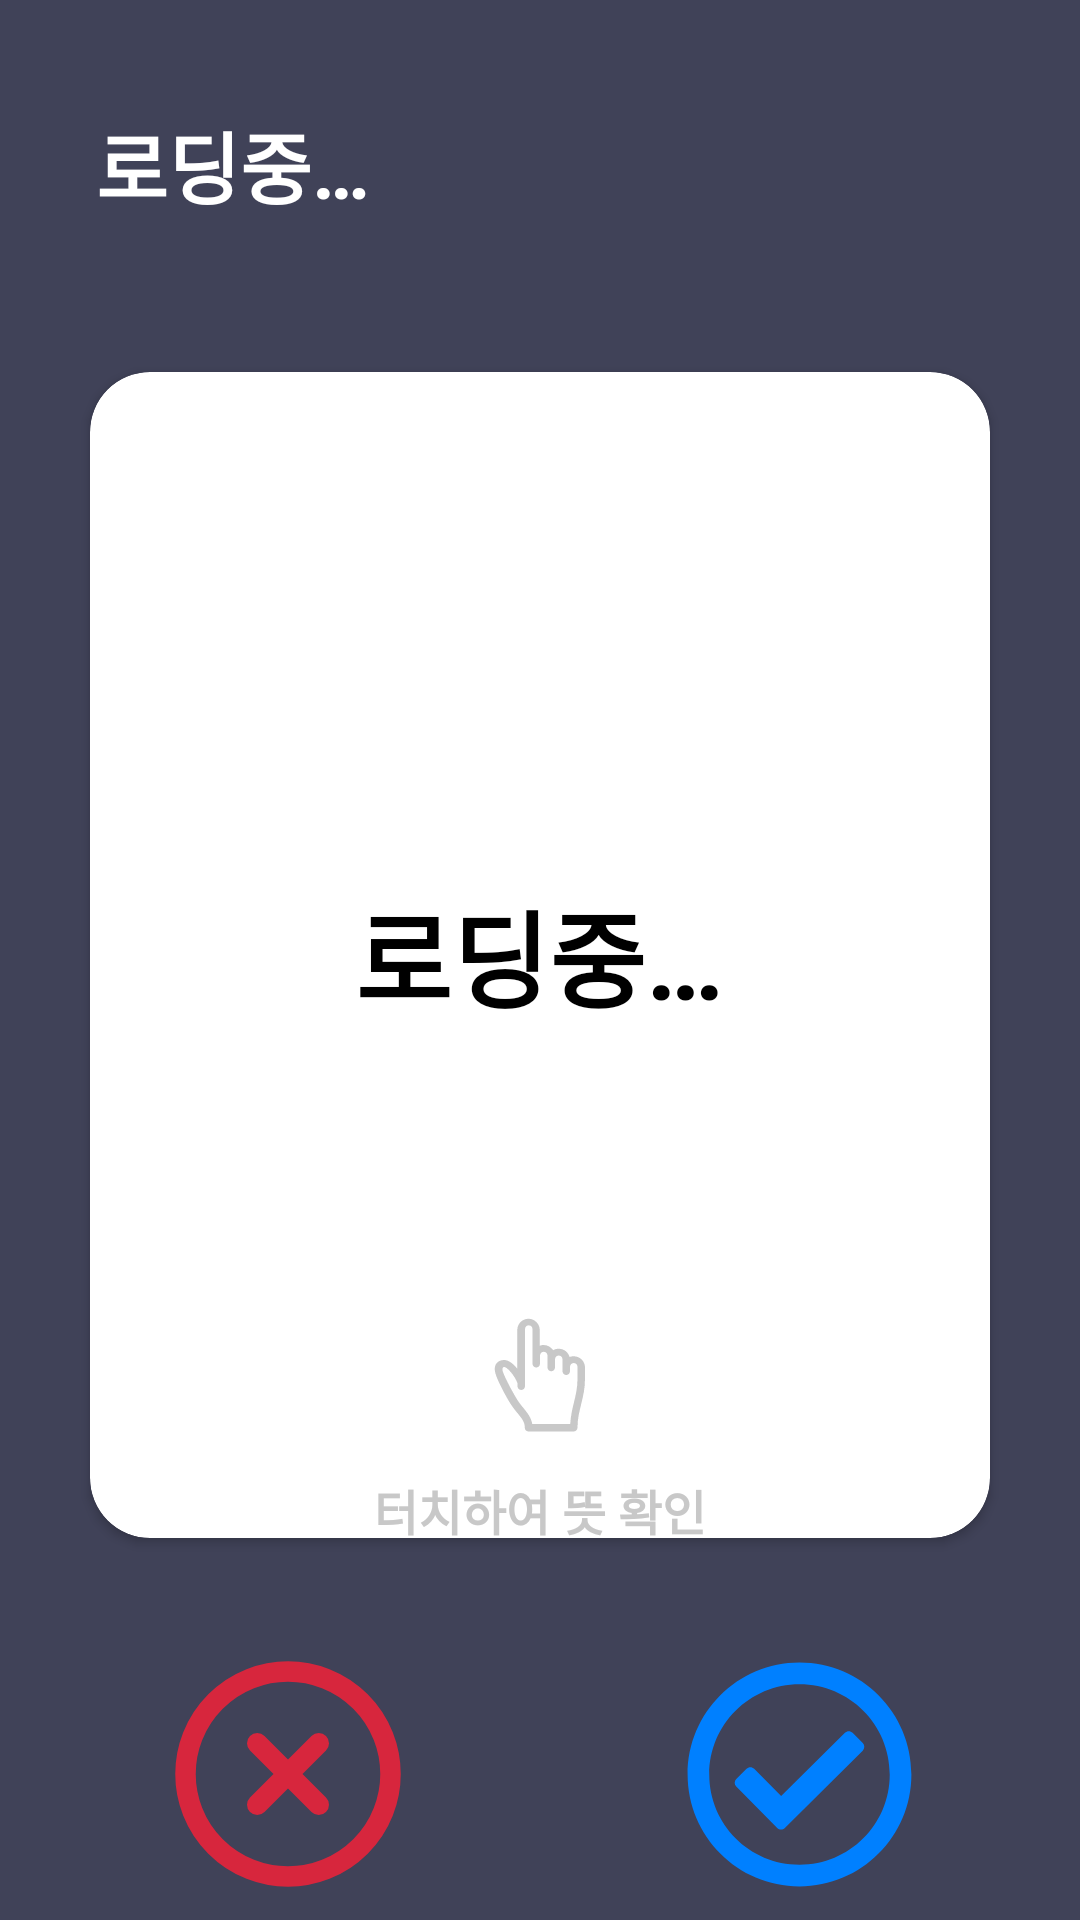

Point at icon controls on the screen. Image size 1080w x 1920h, points as [x,y].
check circle: [799,1774]
click finger touch: [540,1375]
